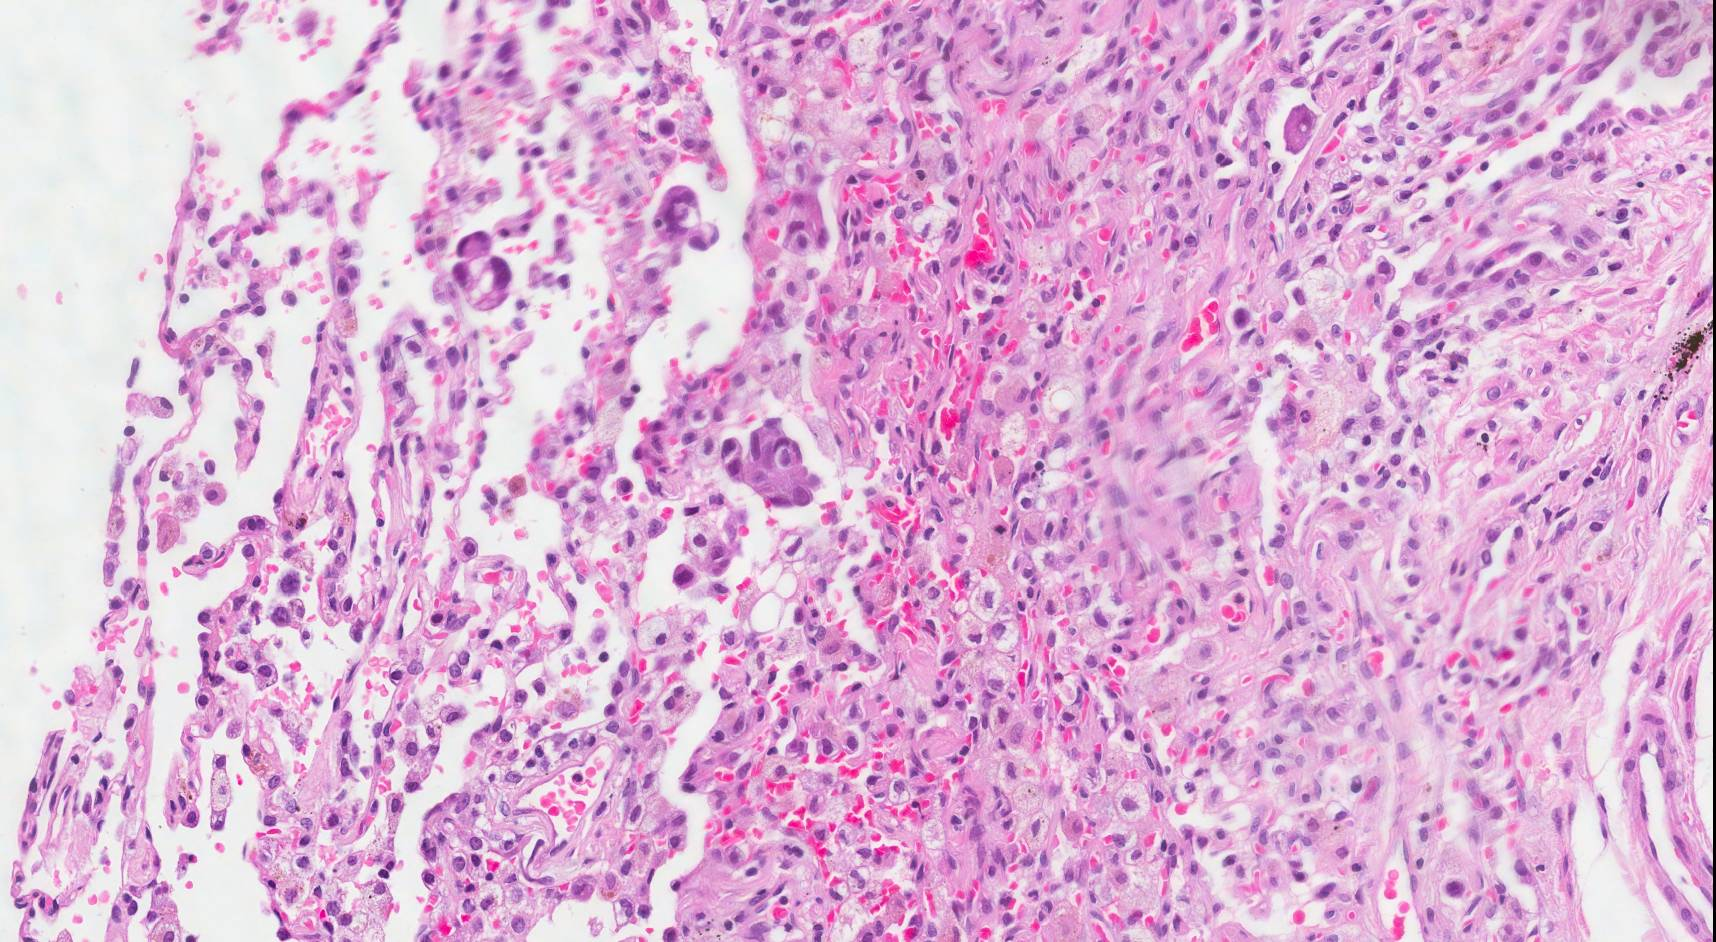stas: (722, 415, 820, 511), (443, 226, 521, 313), (650, 182, 727, 252)
